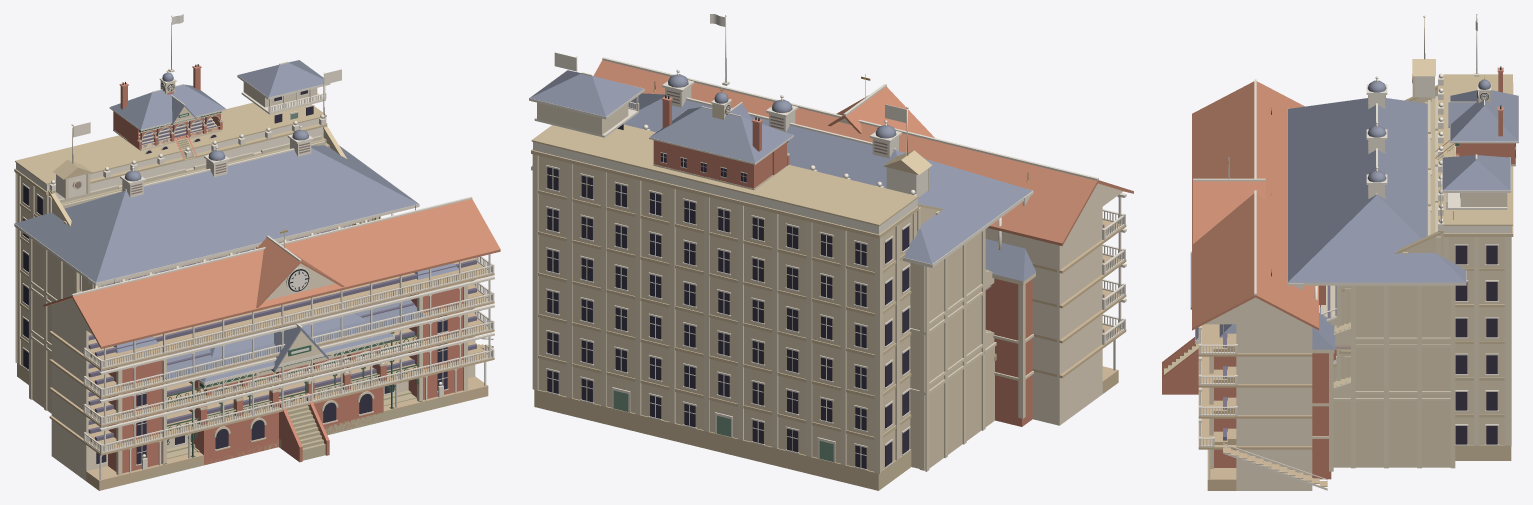
File: newbury_stands.glb
The picture shows the model from 3 angles, left to right: view 1: azimuth 30°, elevation 25°; view 2: azimuth 150°, elevation 25°; view 3: azimuth 270°, elevation 25°; orthographic projection. The views are drawn at different scales.
Visible parts, largest first — view 1: york_big_pavilion, park_tiered_stand, park_roof_terrace_stand_postcard, park_old_pavilion, park_victorian; view 2: park_roof_terrace_stand_postcard, york_big_pavilion, park_tiered_stand, park_victorian; view 3: park_tiered_stand, york_big_pavilion, park_roof_terrace_stand_postcard, park_victorian, park_old_pavilion.
Part boxes in pixels (x1,y1,x2,y2): york_big_pavilion: (43, 196, 500, 490); park_tiered_stand: (14, 126, 453, 482); park_roof_terrace_stand_postcard: (14, 14, 443, 478); park_old_pavilion: (189, 310, 394, 465); park_victorian: (107, 205, 468, 475); park_roof_terrace_stand_postcard: (529, 14, 943, 490); york_big_pavilion: (593, 57, 1133, 425); park_tiered_stand: (531, 69, 1033, 471); park_victorian: (653, 81, 1036, 426); park_tiered_stand: (1287, 76, 1466, 468); york_big_pavilion: (1192, 79, 1327, 490); park_roof_terrace_stand_postcard: (1333, 14, 1518, 460); park_victorian: (1209, 108, 1336, 479); park_old_pavilion: (1162, 193, 1271, 394).
Bounding box in the file's own units: 54.35 × 43.25 × 37.56.
